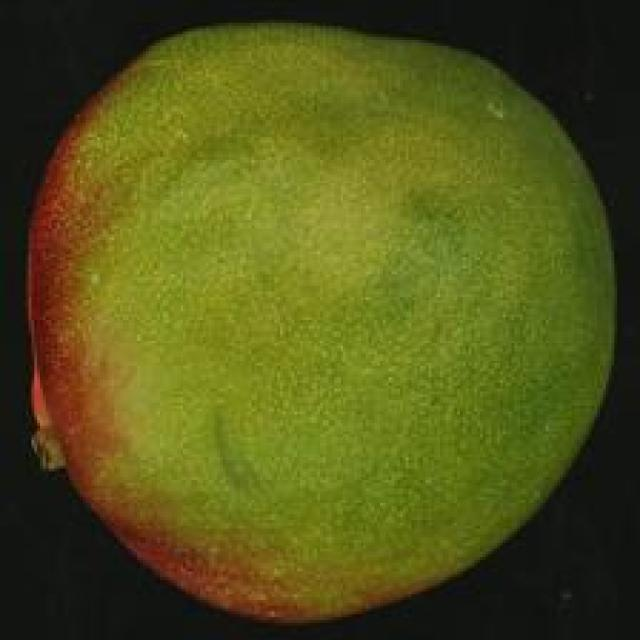Good_Mango: (23, 20, 620, 631)
